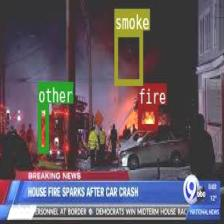fire: (138, 104, 157, 129)
smoke: (114, 29, 141, 84)
